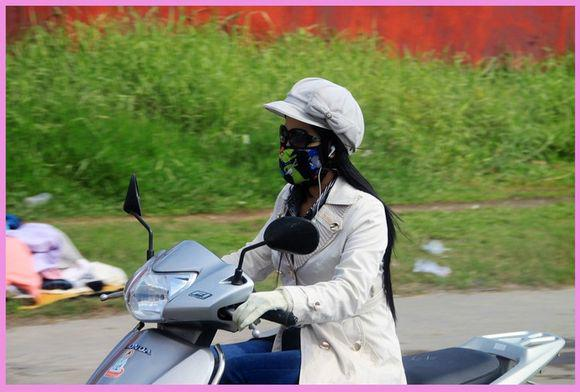OK: (281, 125, 332, 184)
